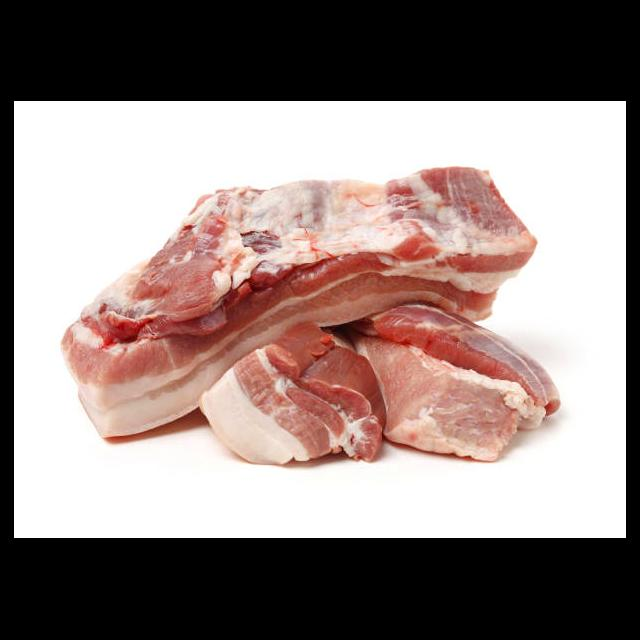pork: (115, 165, 522, 316), (372, 305, 567, 468), (187, 314, 379, 465), (61, 288, 199, 440)
